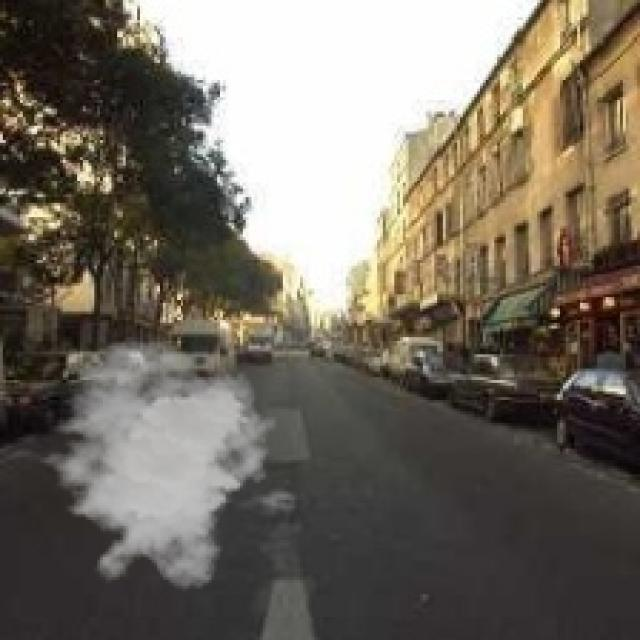smoke: (29, 337, 277, 592)
